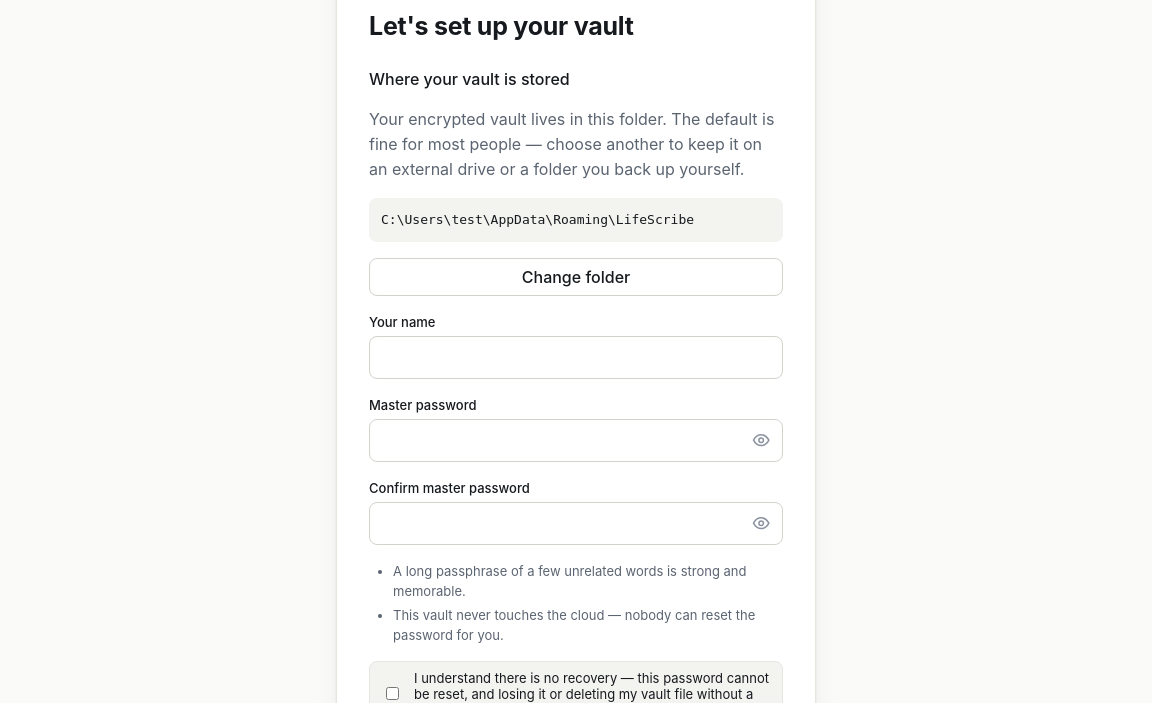
Test: App › resets the Form Editor preference to off when a new vault is created
(page scrolled)
Check: the heading "Let's set up your vault" is shown, box [369,11,634,41]
Type "Dana" into the field labelled "Your name" at (576, 357), box [369,336,783,379]
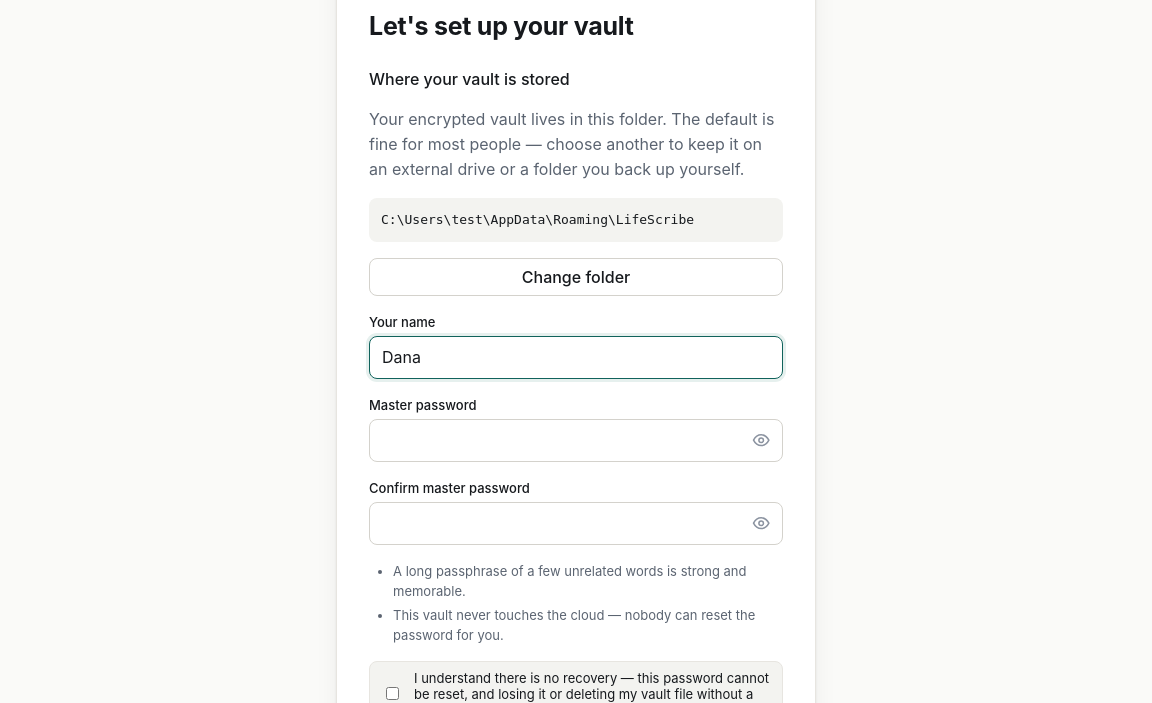
Type "correct horse battery staple" into the password field labelled "Master password" at (576, 440), box [369,419,783,462]
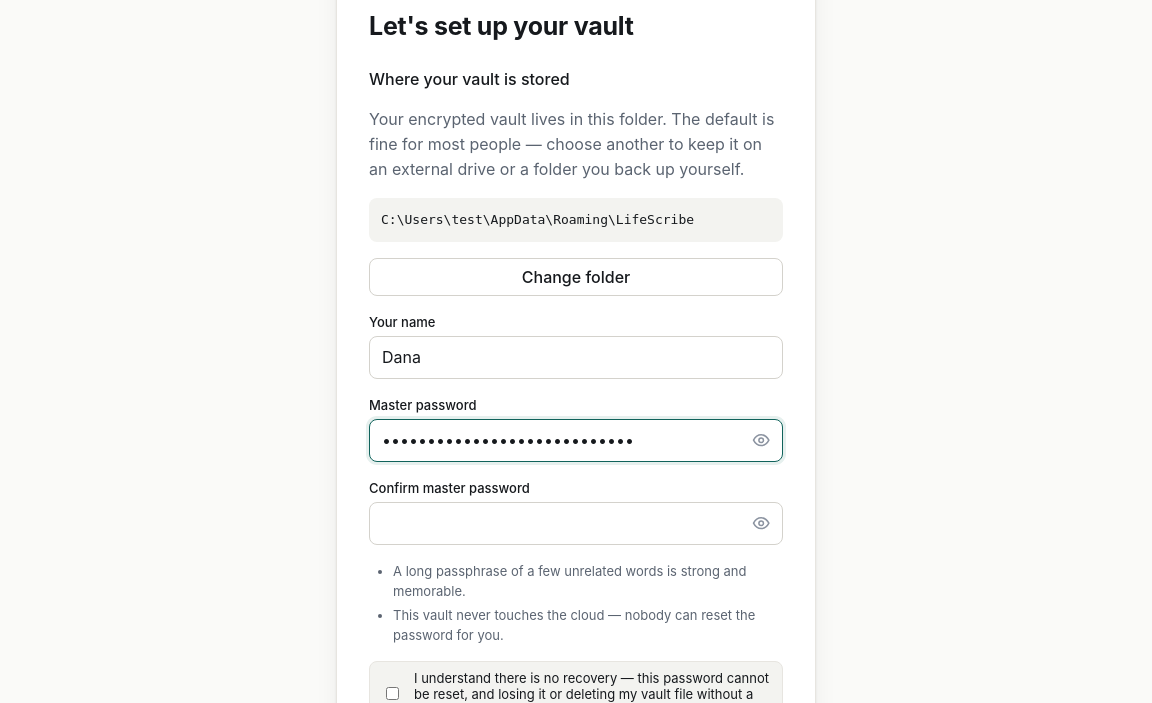
Type "correct horse battery staple" into the password field labelled "Confirm master password" at (576, 523), box [369,502,783,545]
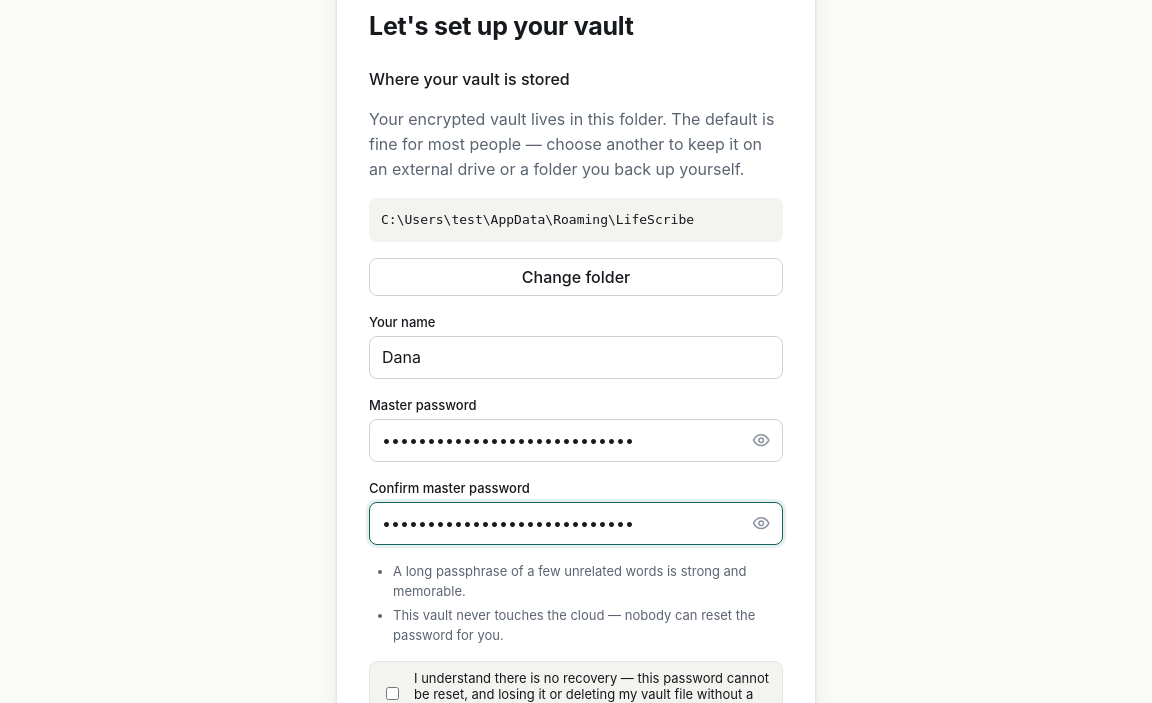
Click the checkbox labelled "I understand there is no recovery" at (392, 693), box [386,687,399,700]
(page scrolled)
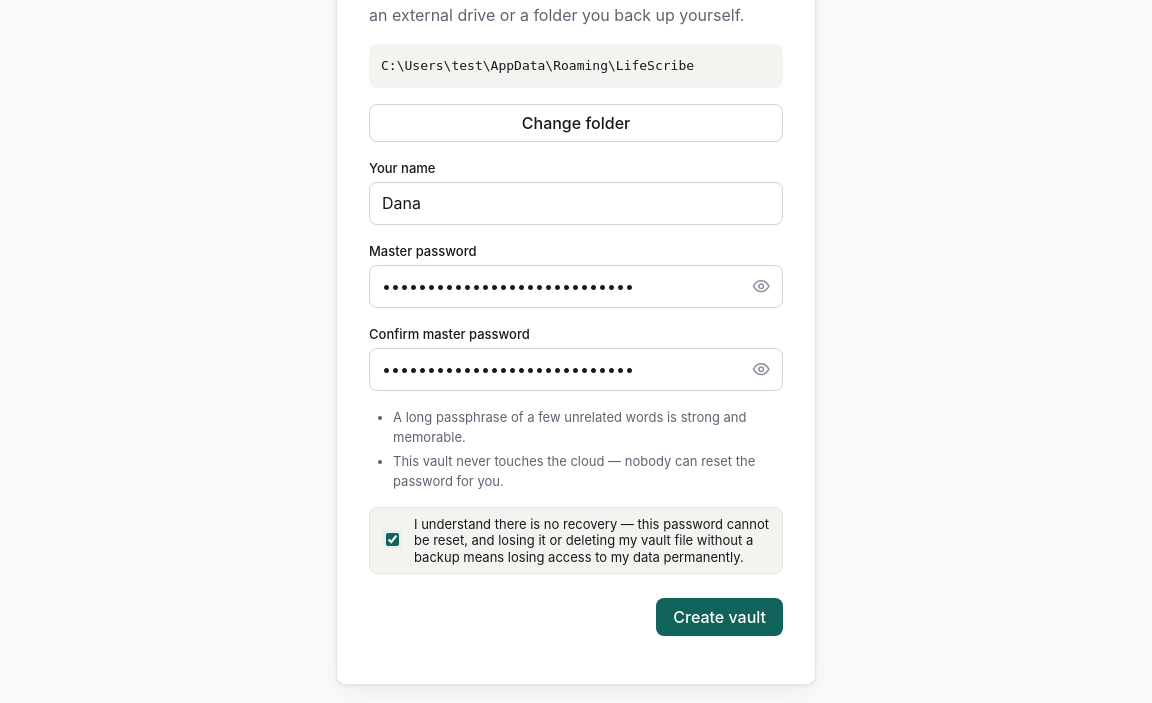
Click the button "Create vault" at (720, 617), box [656,598,783,636]
(page scrolled)
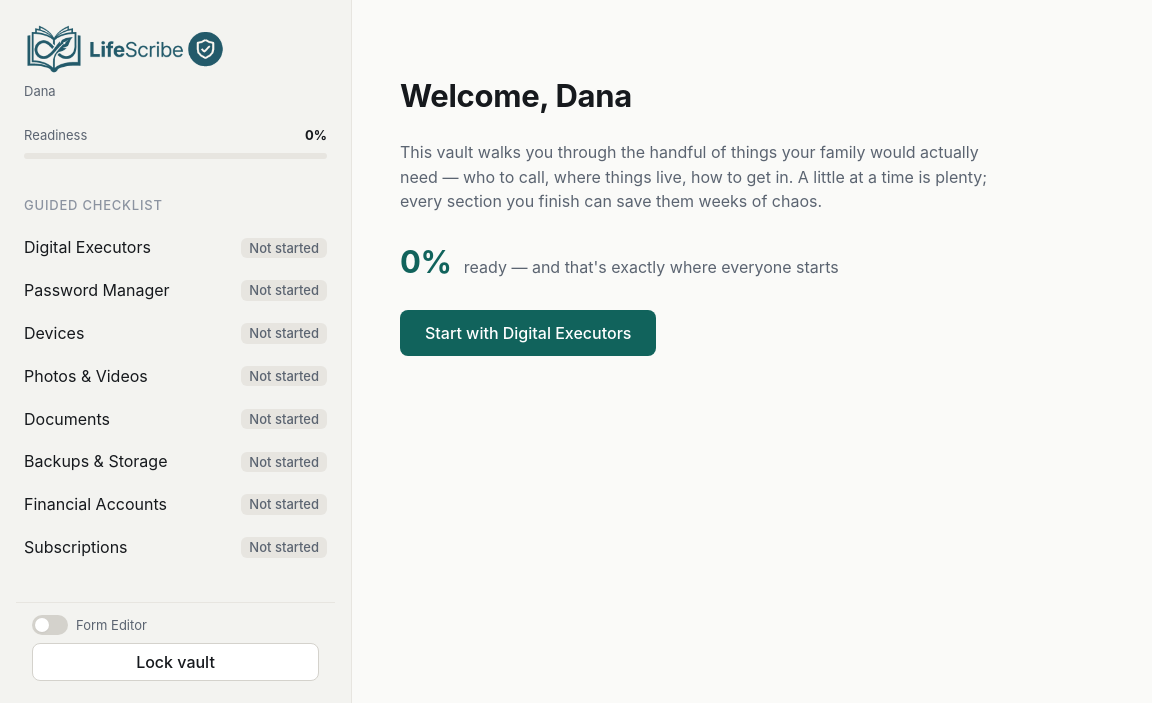
Check: the heading "Welcome, Dana" is shown, box [400,77,632,114]
